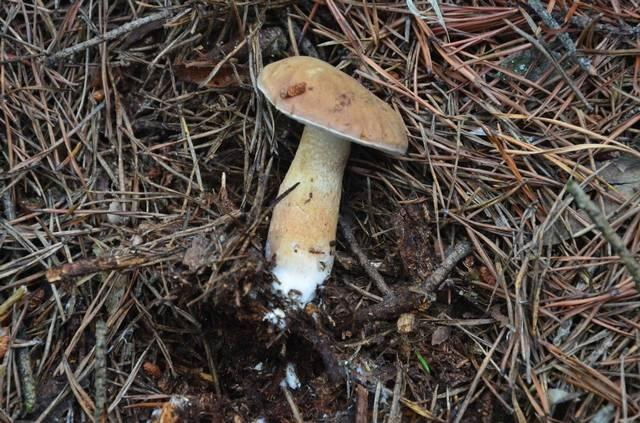poisonous_mushroom: (253, 53, 409, 320)
